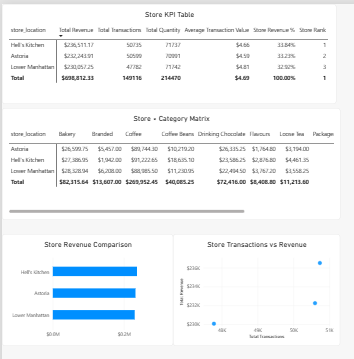

This screenshot's page, from the dashboard's own definition file:
{"tool":"powerbi","page":{"name":"Store Performance","canvas":[1920,1080],"ordinal":3},"visuals":[{"type":"pivotTable","title":"Store KPI Table","fields":{"Rows":["DimStore.store_location"],"Values":["_Measures.Total Revenue","_Measures.Total Transactions","_Measures.Total Quantity","_Measures.Average Transaction Value","_Measures.Store Revenue %","_Measures.Store Rank"]},"box":[0,0,836,250],"z":0},{"type":"barChart","title":"Store Revenue Comparison","fields":{"Category":["DimStore.store_location"],"Y":["_Measures.Total Revenue"]},"box":[0,574,428,280],"z":1000},{"type":"scatterChart","title":"Store Transactions vs Revenue","fields":{"Category":["DimStore.store_location"],"X":["_Measures.Total Transactions"],"Y":["_Measures.Total Revenue"]},"box":[428,574,418,280],"z":2000},{"type":"pivotTable","title":"Store × Category Matrix","fields":{"Columns":["DimProduct.product_category"],"Rows":["DimStore.store_location"],"Values":["_Measures.Total Revenue"]},"box":[0,260,846,280],"z":3000}]}

Visuals, with their boxes on the page's 1920x1080 design canvas (x1, y1, x2, y2). These are canvas units, not pixel positions in the 354x359 screenshot, which may show the page scaled, cropped or inside an application window:
"Store KPI Table" pivotTable: (0, 0, 836, 250)
"Store Revenue Comparison" barChart: (0, 574, 428, 854)
"Store Transactions vs Revenue" scatterChart: (428, 574, 846, 854)
"Store × Category Matrix" pivotTable: (0, 260, 846, 540)
